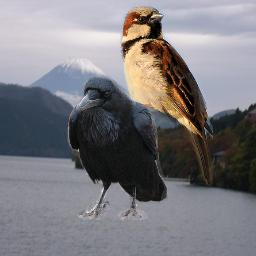Crow: (67, 75, 168, 220)
Swallow: (119, 6, 213, 186)
